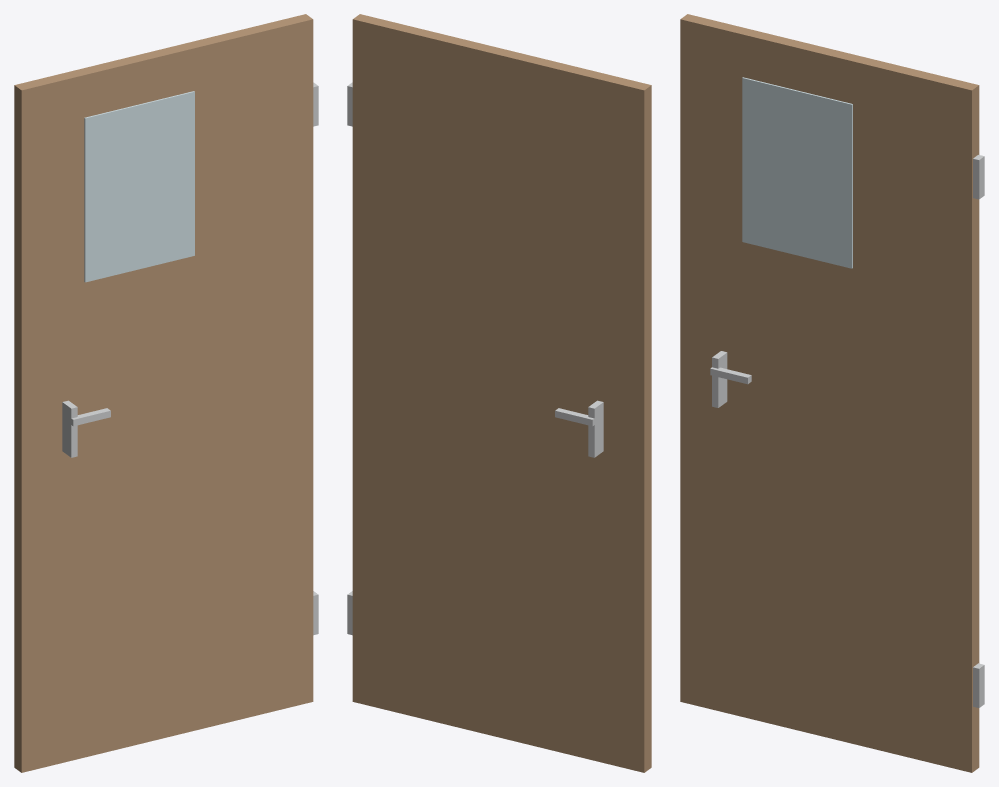
File: Door_Leaf.fbx
3 views of the same model, side by side, from view 1: azimuth 30°, elevation 25°; view 2: azimuth 150°, elevation 25°; view 3: azimuth 330°, elevation 25° (orthographic).
Parts seen in each view (by area): view 1: Door_Leaf; view 2: Door_Leaf; view 3: Door_Leaf.
Part boxes in pixels (left/top/right/bottom): Door_Leaf: left=14, top=14, right=318, bottom=772; Door_Leaf: left=347, top=14, right=651, bottom=772; Door_Leaf: left=680, top=14, right=984, bottom=772.
Bounding box in the file's own units: 0.95 × 2.08 × 0.16.
